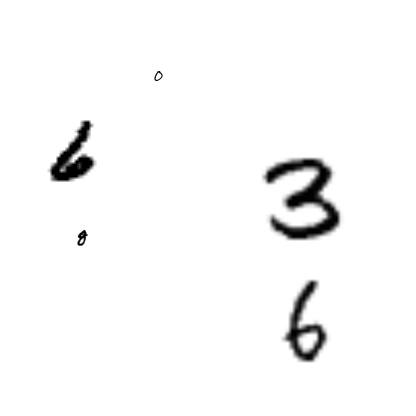0: (312, 43, 354, 85)
1: (22, 345, 78, 401)
5: (17, 245, 45, 273)
Bag: (67, 165, 109, 207)
Sandal: (202, 172, 244, 214)
